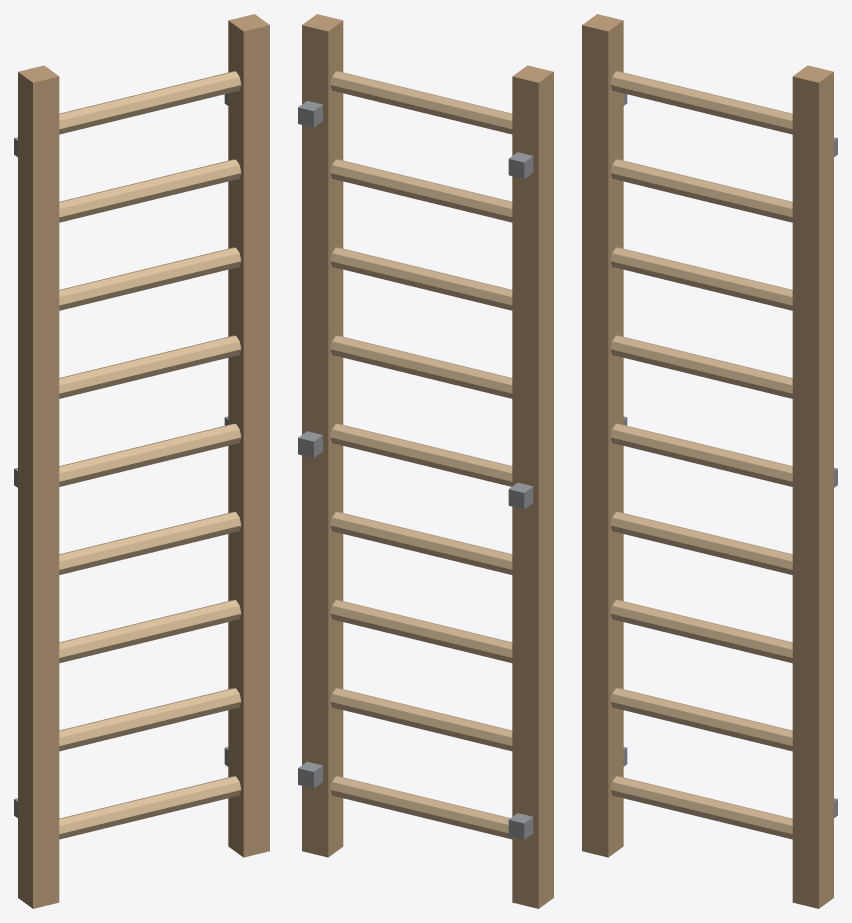
Rendered from ladder.glb.
3 views of the same model, side by side, from view 1: azimuth 30°, elevation 25°; view 2: azimuth 150°, elevation 25°; view 3: azimuth 330°, elevation 25° (orthographic).
Visible parts, largest first — view 1: ladder; view 2: ladder; view 3: ladder.
Part boxes in pixels (x1,y1,x2,y2): ladder: (14, 14, 269, 908); ladder: (298, 14, 553, 908); ladder: (582, 14, 837, 908).
Size of the model in its own units: 0.9 by 3 by 0.16.
